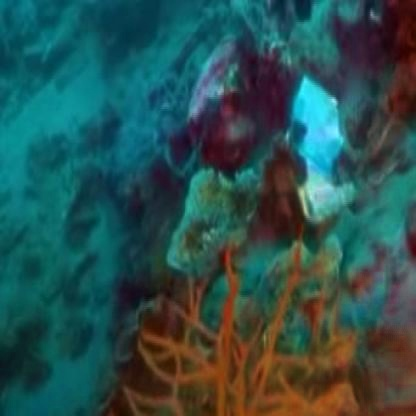plastic: (270, 72, 338, 188)
